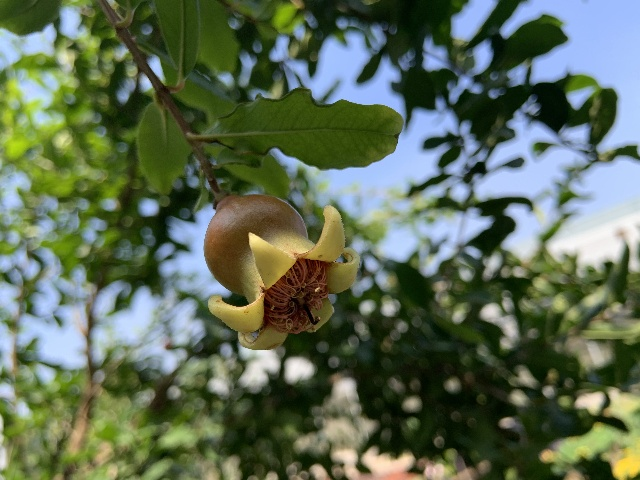early-fruit: (203, 193, 359, 351)
